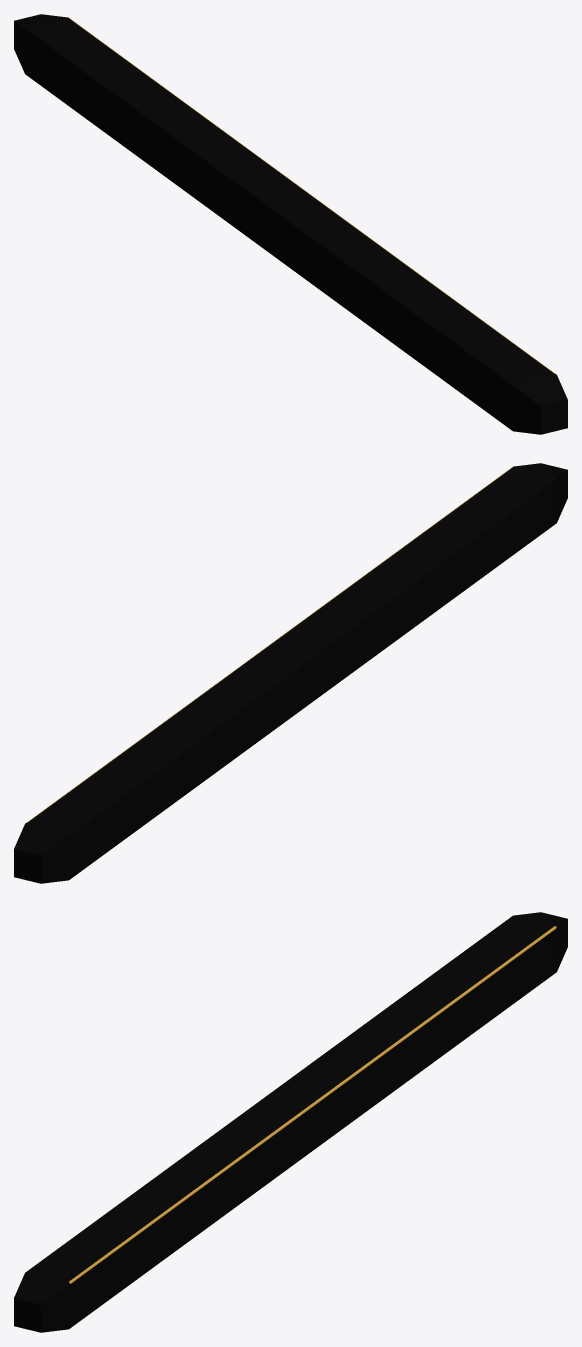
The model's file is 24-Pin Shrouded Header (IDC) Straight.obj.
3 renders of one model, top to bottom at view 1: azimuth 30°, elevation 25°; view 2: azimuth 150°, elevation 25°; view 3: azimuth 330°, elevation 25°, orthographic.
Parts seen in each view (by area): view 1: 24-Pin_Shrouded_Header_(IDC)_Straight; view 2: 24-Pin_Shrouded_Header_(IDC)_Straight; view 3: 24-Pin_Shrouded_Header_(IDC)_Straight.
Boxes of the visible parts, <box> form: 24-Pin_Shrouded_Header_(IDC)_Straight: <box>14,14,567,434</box>; 24-Pin_Shrouded_Header_(IDC)_Straight: <box>14,463,567,883</box>; 24-Pin_Shrouded_Header_(IDC)_Straight: <box>14,912,567,1332</box>.
Bounding box in the file's own units: 0.000886 × 0.000886 × 0.018.
